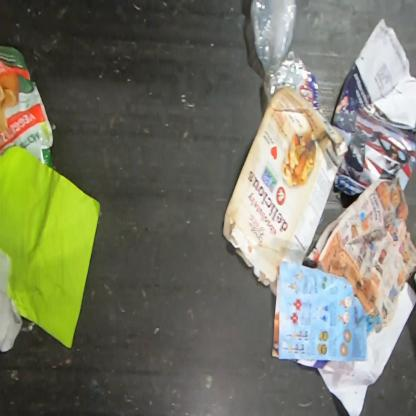cardboard: (222, 86, 348, 286)
rigid_plastic: (250, 0, 309, 105)
soft_plastic: (0, 46, 56, 172)
